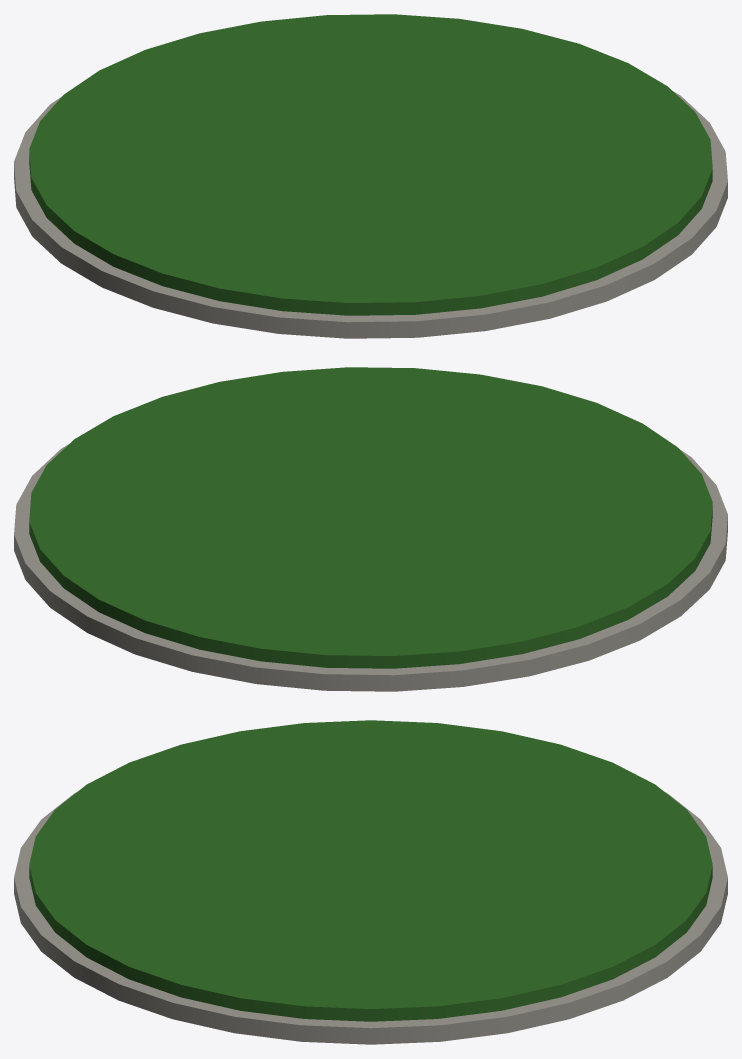
The model's file is road.feature.mini_roundabout.glb.
The picture shows the model from 3 angles, top to bottom: view 1: azimuth 30°, elevation 25°; view 2: azimuth 150°, elevation 25°; view 3: azimuth 270°, elevation 25°; orthographic projection.
Visible parts, largest first — view 1: main__foliage, main__concrete; view 2: main__foliage, main__concrete; view 3: main__foliage, main__concrete.
Boxes of the visible parts, x1,y1,x2,y2 form: main__foliage: (29,14,712,315); main__concrete: (14,91,727,338); main__foliage: (29,367,712,668); main__concrete: (14,444,727,691); main__foliage: (29,720,712,1021); main__concrete: (14,792,727,1044).
Size of what is drawn, in the model's own units: 5.64 by 0.254 by 5.64.
